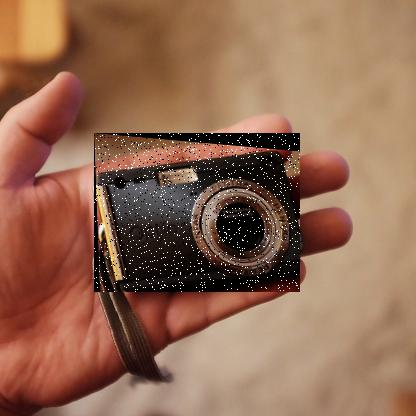Camera: (95, 134, 302, 294)
